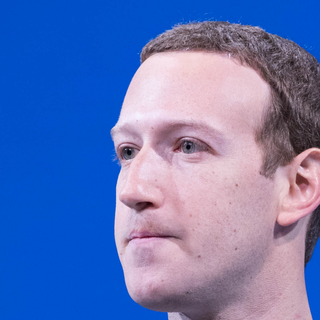eye: (167, 134, 214, 161), (113, 139, 143, 165)
